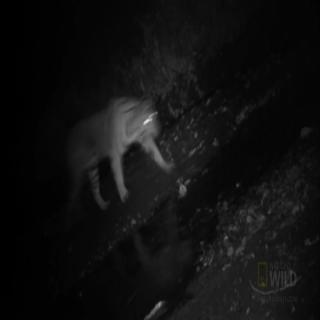Tiger: (74, 94, 173, 204)
